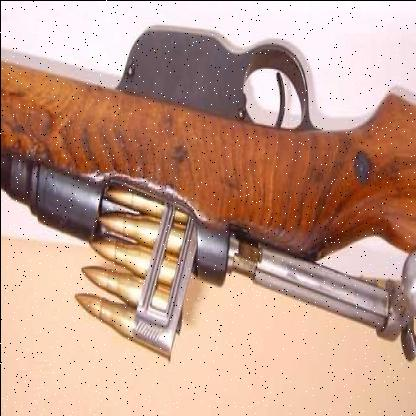rifle: (1, 1, 416, 352)
